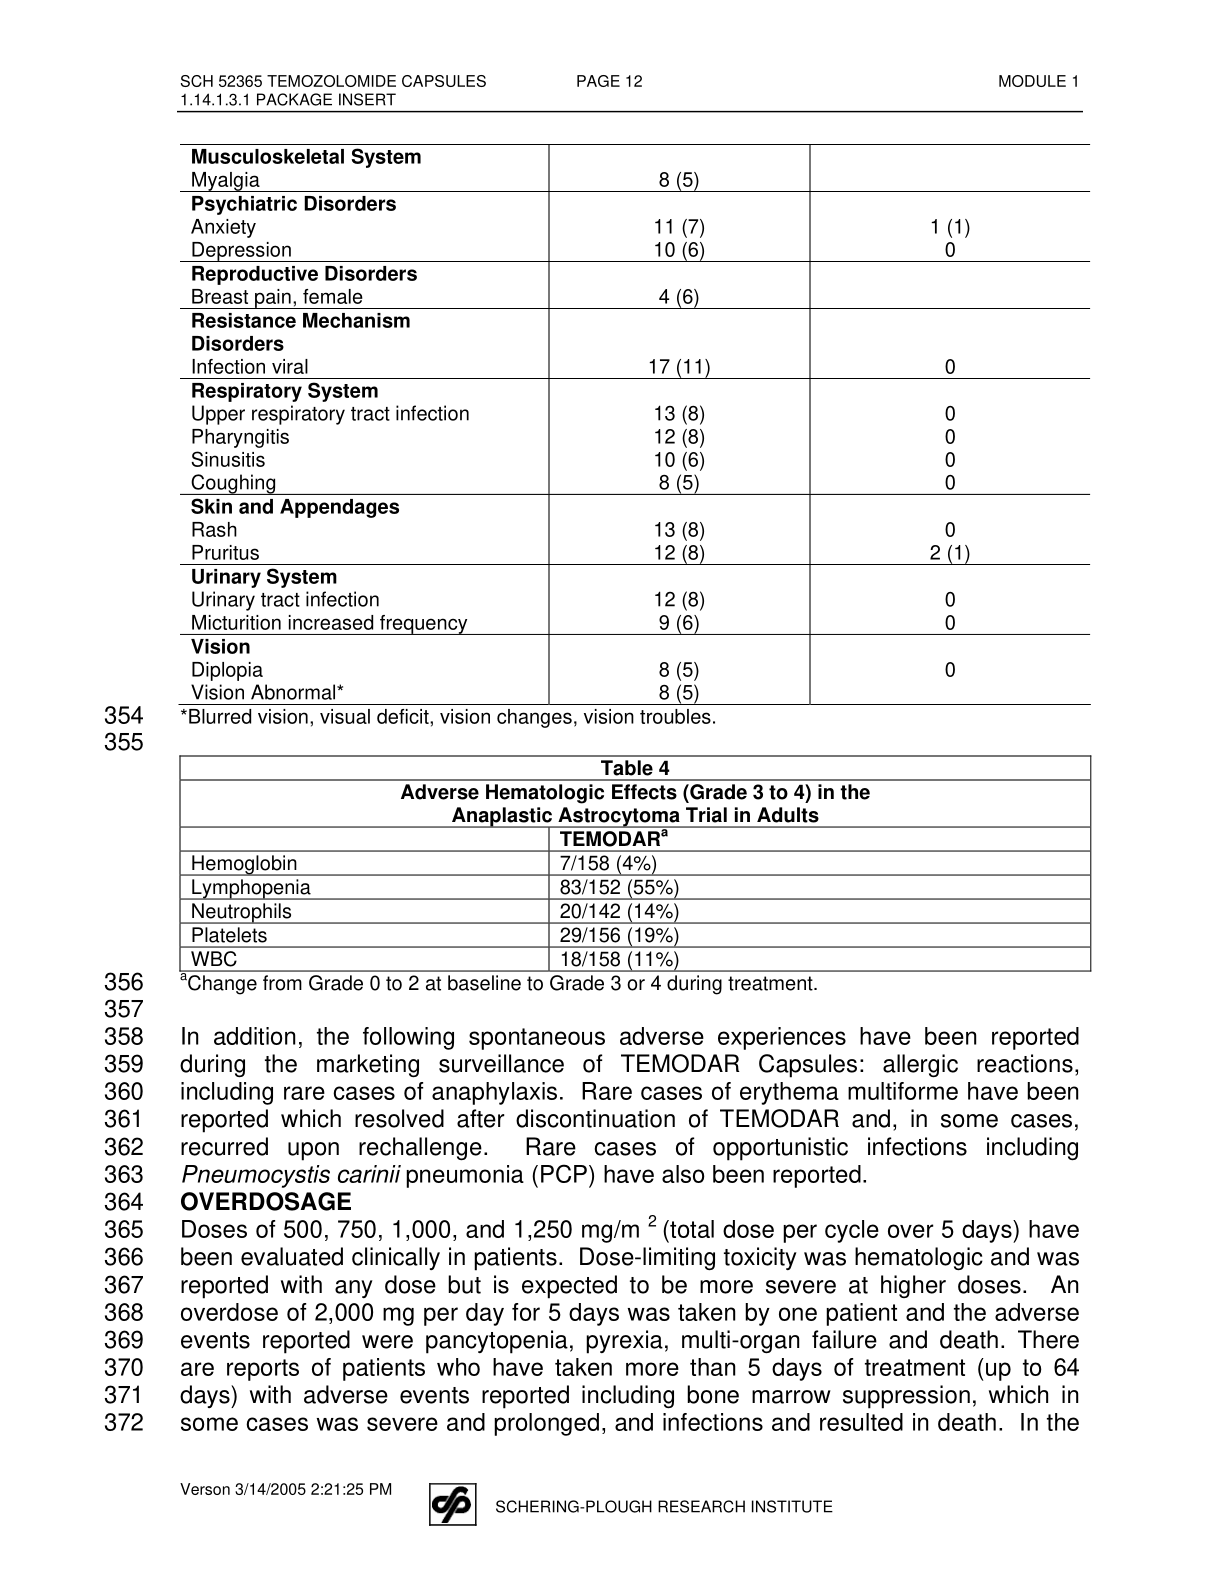partial_lined: (177, 140, 1092, 706)
partial_lined_merged_cells: (176, 751, 1095, 975)
